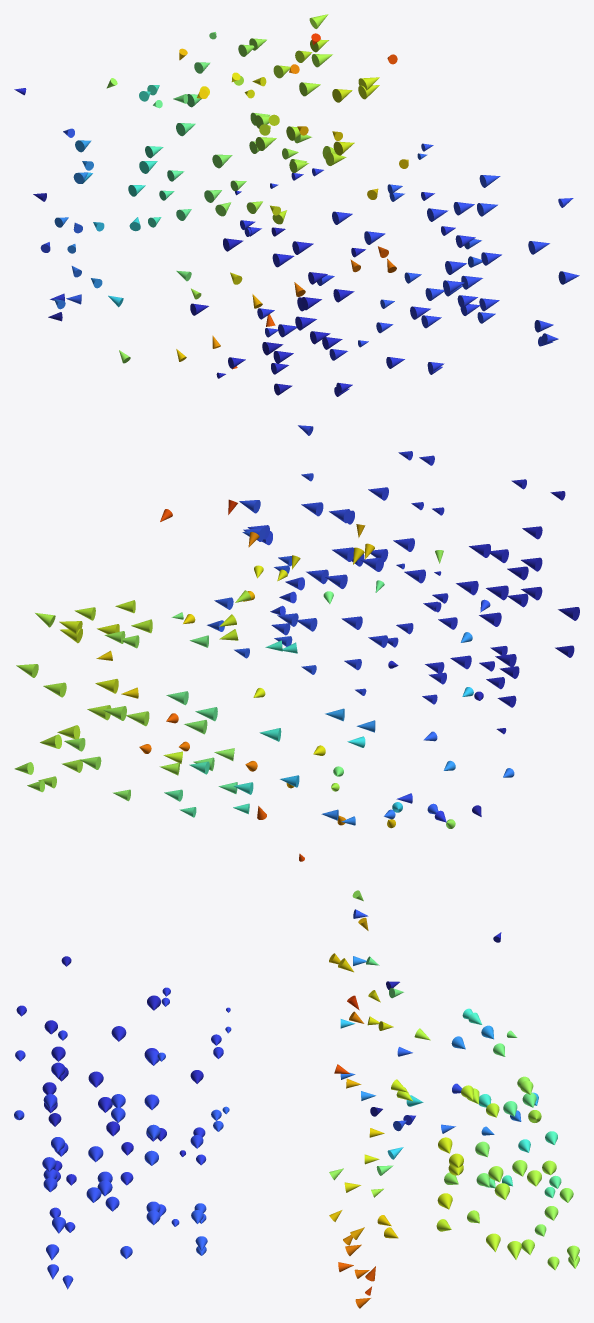
The model's file is LineasCorrienteN2-H2O_mh2-1.38_V-0.9.glb.
The picture shows the model from 3 angles, top to bottom: view 1: azimuth 30°, elevation 25°; view 2: azimuth 150°, elevation 25°; view 3: azimuth 270°, elevation 25°; orthographic projection. The views are drawn at different scales.
Bounding box in the file's own units: 0.000984 × 0.000813 × 0.00119.
Materials: 2 (2 with a texture image).
